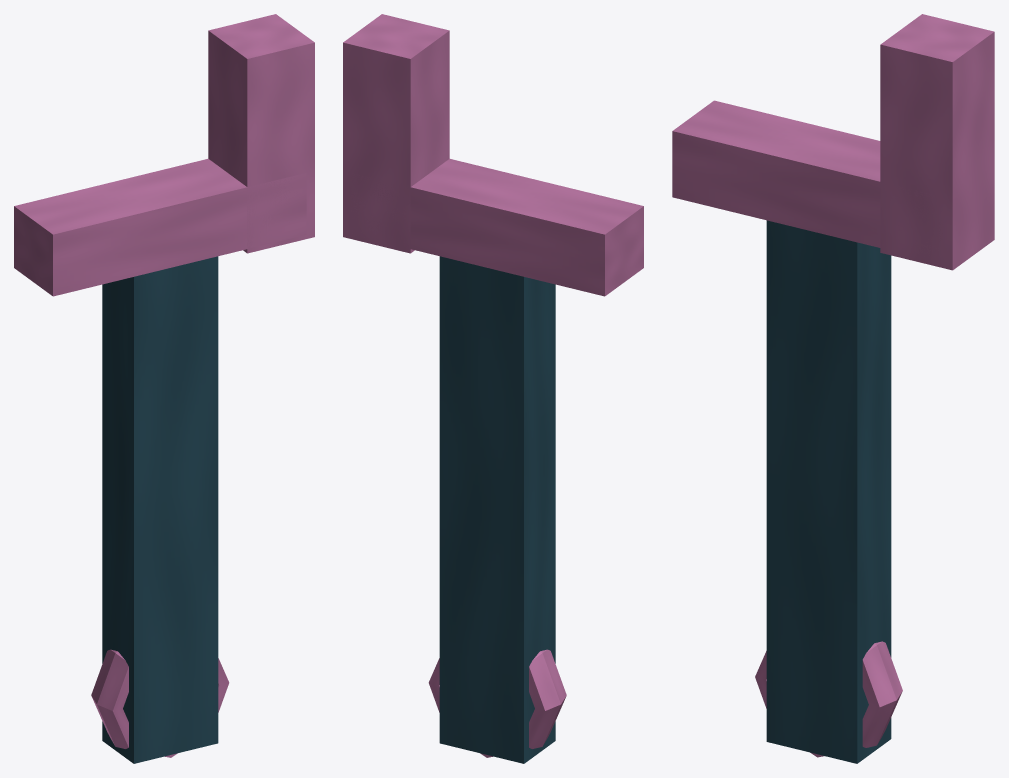
File: atlas100-s069-a05.lod2.glb
3 renders of one model, left to right at view 1: azimuth 30°, elevation 25°; view 2: azimuth 150°, elevation 25°; view 3: azimuth 330°, elevation 25°, orthographic. The views are drawn at different scales.
Visible parts, largest first — view 1: atlas100-s069-a05:part-000, atlas100-s069-a05:part-003, atlas100-s069-a05:part-002, atlas100-s069-a05:part-004; view 2: atlas100-s069-a05:part-000, atlas100-s069-a05:part-003, atlas100-s069-a05:part-002, atlas100-s069-a05:part-004; view 3: atlas100-s069-a05:part-000, atlas100-s069-a05:part-002, atlas100-s069-a05:part-003, atlas100-s069-a05:part-004.
Part boxes in pixels (x1,y1,x2,y2): atlas100-s069-a05:part-000: (102,256,218,763); atlas100-s069-a05:part-003: (14,158,306,296); atlas100-s069-a05:part-002: (208,14,314,253); atlas100-s069-a05:part-004: (91,649,229,757); atlas100-s069-a05:part-000: (439,256,555,763); atlas100-s069-a05:part-003: (351,158,643,296); atlas100-s069-a05:part-002: (343,14,449,253); atlas100-s069-a05:part-004: (428,649,566,757); atlas100-s069-a05:part-000: (766,220,891,763); atlas100-s069-a05:part-002: (880,14,994,270); atlas100-s069-a05:part-003: (672,100,943,260); atlas100-s069-a05:part-004: (755,641,902,757).
Bounding box in the file's own units: 0.3385 × 0.8572 × 0.0874.
2 materials, 2 textured.
